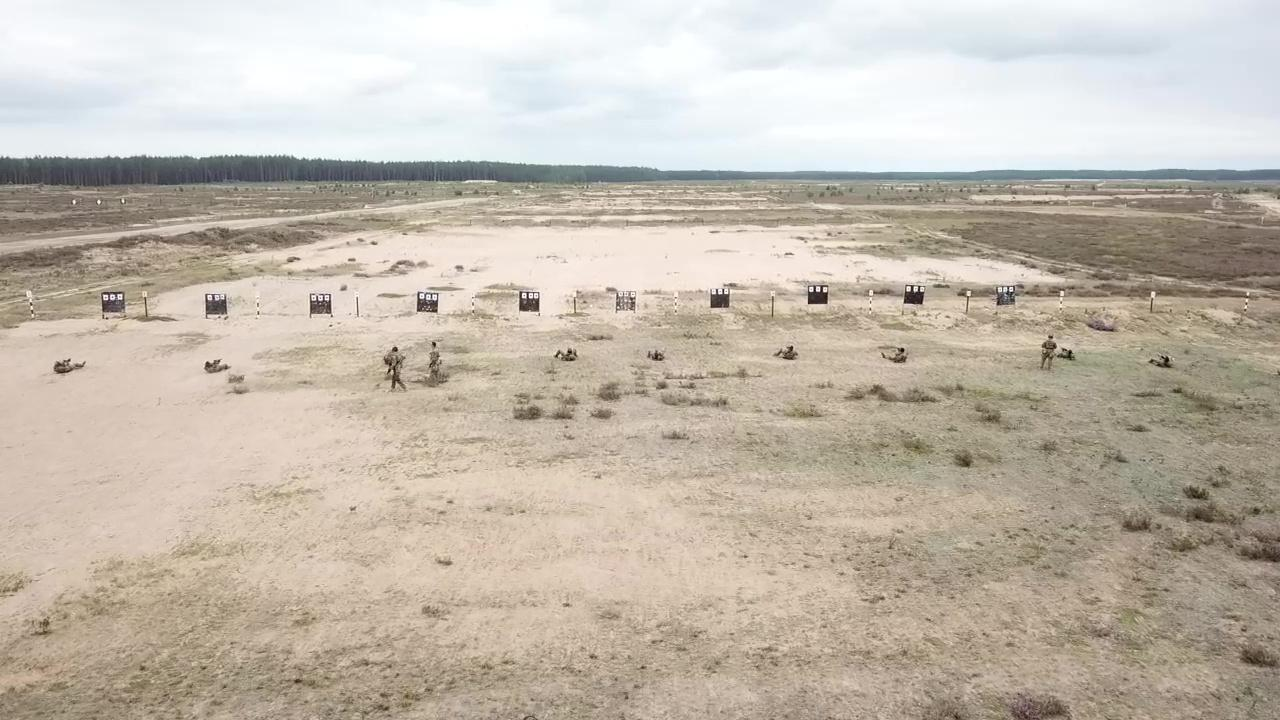Soldier: (383, 344, 408, 394), (1039, 331, 1058, 374), (51, 355, 90, 375), (426, 335, 442, 383), (202, 356, 235, 375)
